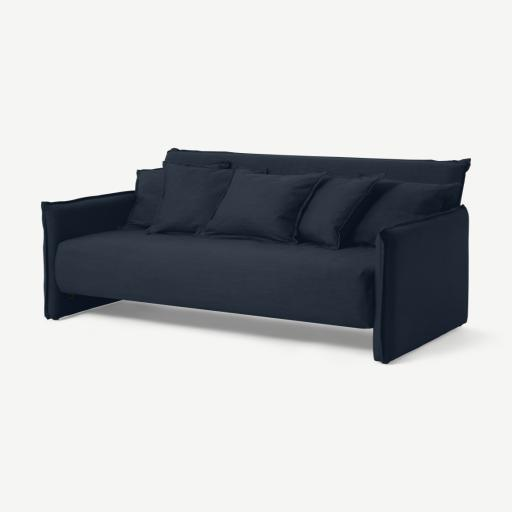back_cushion: (125, 155, 460, 250)
left_arm: (374, 206, 468, 363)
one-seater: (42, 148, 470, 363)
right_arm: (42, 191, 135, 319)
seat_cushion: (56, 230, 375, 328)
